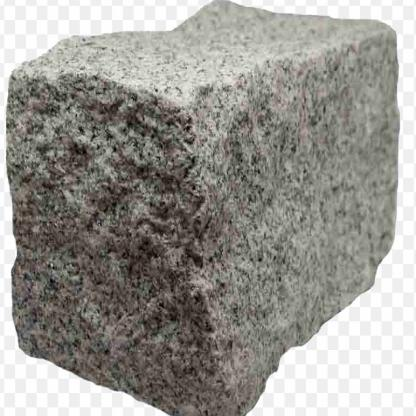Igneous_Granite: (5, 3, 409, 415)
